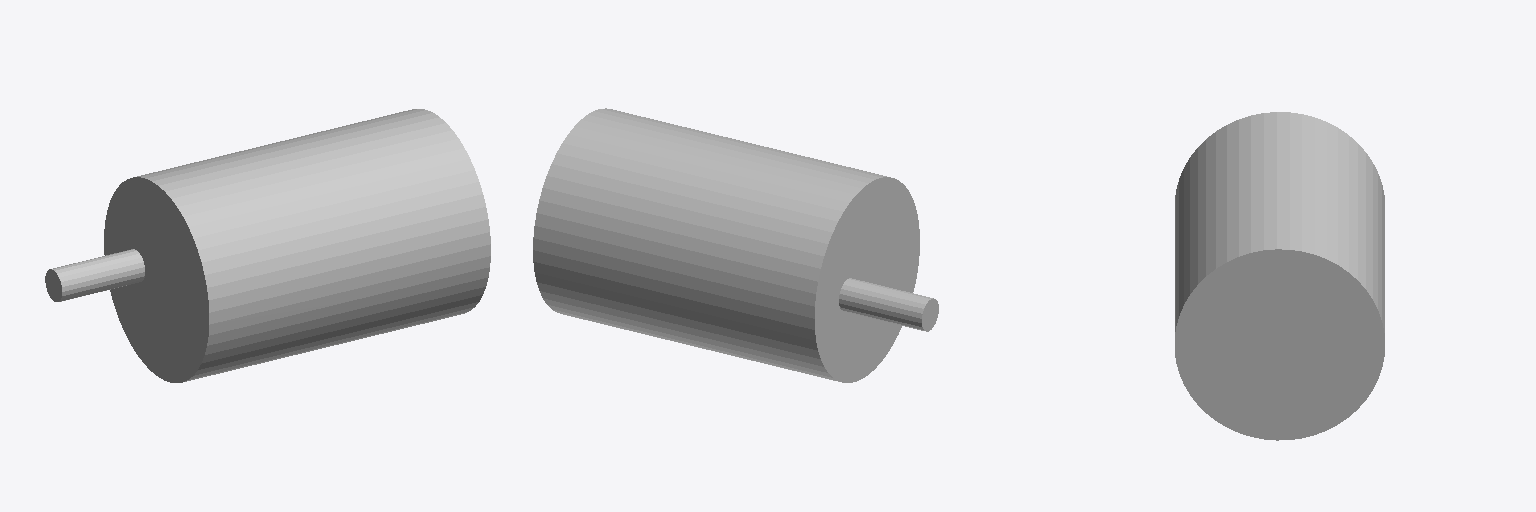
The model's file is bl_motor_visual.obj.
3 views of the same model, side by side, from view 1: azimuth 30°, elevation 25°; view 2: azimuth 150°, elevation 25°; view 3: azimuth 270°, elevation 25° (orthographic).
Visible parts, largest first — view 1: bl_motor; view 2: bl_motor; view 3: bl_motor.
Part boxes in pixels (x1,y1,x2,y2): bl_motor: (45,109,490,382); bl_motor: (533,108,938,382); bl_motor: (1175,112,1384,440).
Size of the model in its own units: 7.38 by 3.7 by 3.7.